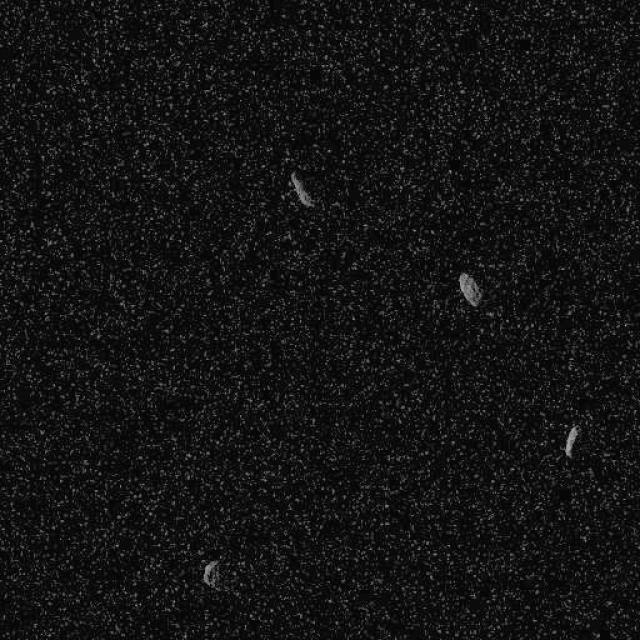D2: (287, 169, 315, 209), (458, 272, 482, 308), (201, 559, 220, 589), (562, 423, 578, 458)
